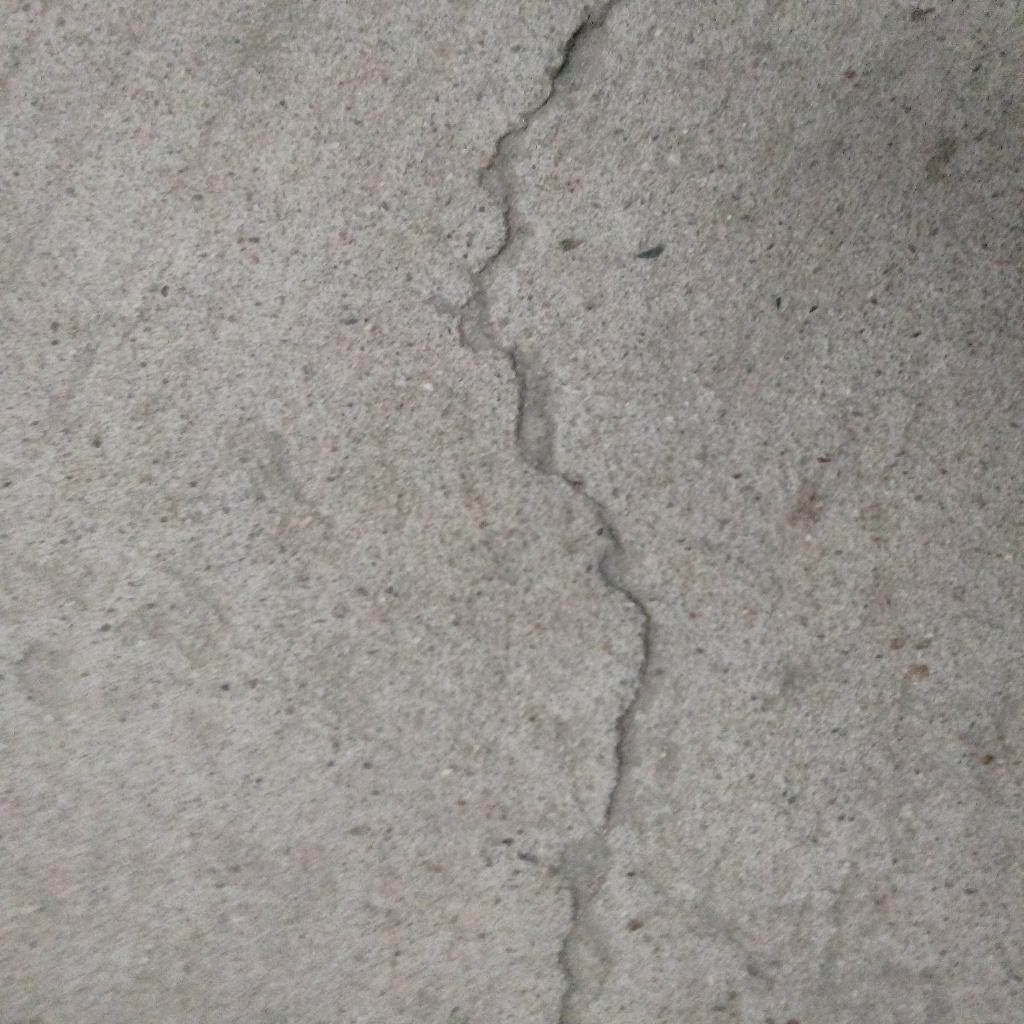Crack: (453, 1, 650, 1024)
